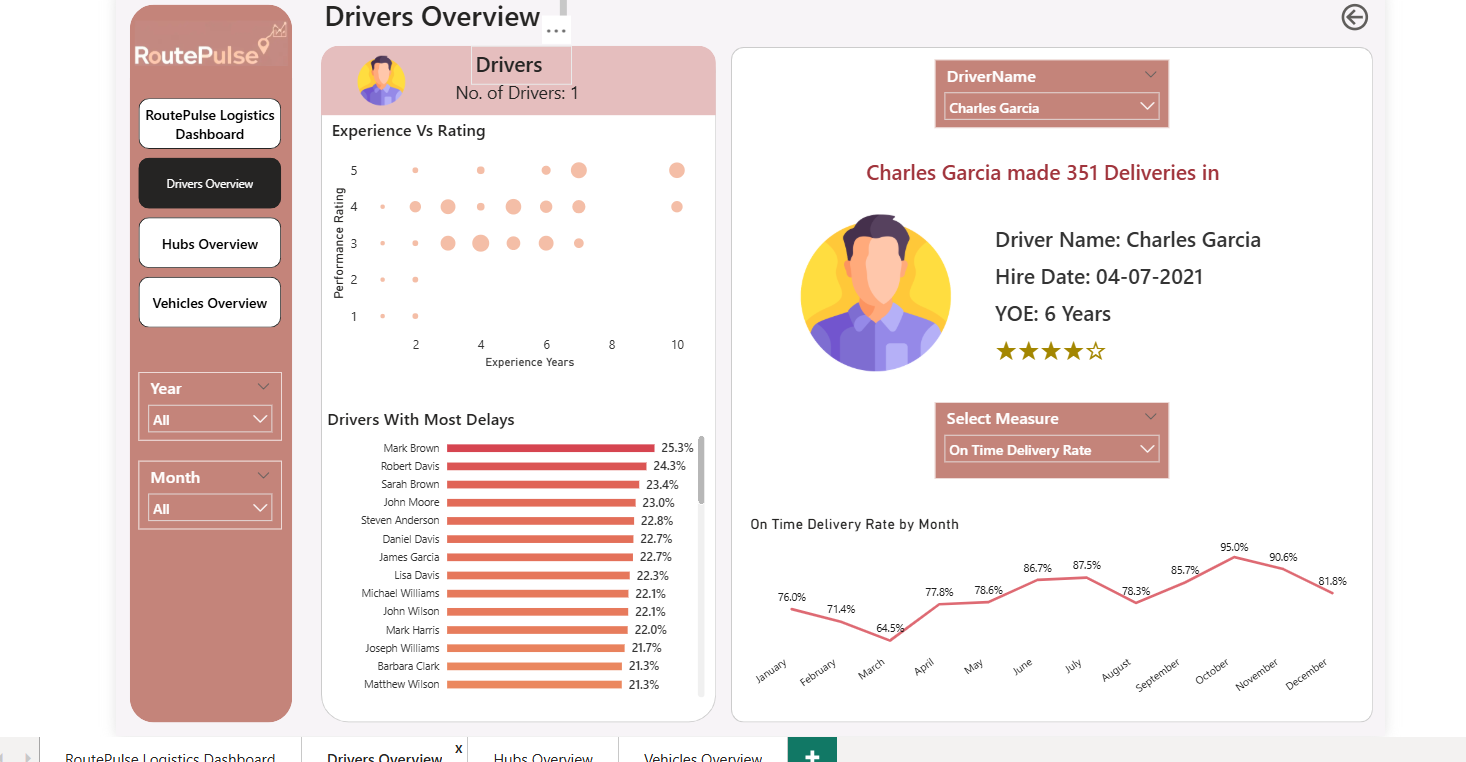

Layout of this report page (visuals, bound fields, positions):
{"tool":"powerbi","page":{"name":"Drivers Overview","canvas":[1450,850],"ordinal":1},"visuals":[{"type":"shape","box":[15.9,14.3,185.7,820.6],"z":0},{"type":"textbox","box":[233.3,0,287.5,48.6],"z":1000},{"type":"slicer","fields":{"Values":["Date Table.Year"]},"box":[25.6,434.4,163.8,78.3],"z":2000},{"type":"slicer","fields":{"Values":["Date Table.Month"]},"box":[25.6,535.5,163.8,78.3],"z":3000},{"type":"shape","box":[233.6,61.2,451.5,773.4],"z":4000},{"type":"shape","box":[233.6,61.2,451.5,79.8],"z":5000},{"type":"card","fields":{"Values":["Drivers.No Of Drivers"]},"box":[370.3,88.3,176.6,55.5],"z":6000},{"type":"textbox","box":[405.9,61.2,115.4,44.2],"z":7000},{"type":"scatterChart","title":"Experience Vs Rating","fields":{"X":["Drivers.Experience Years"],"Y":["Drivers.Performance Rating"],"Size":["Sum(Drivers.Experience Years)1"]},"box":[242.1,143.9,431.6,290.6],"z":8000},{"type":"barChart","title":"Drivers With Most Delays","fields":{"Category":["Drivers.DriverName"],"Y":["Orders.Delayed Delivery Rate"]},"box":[242.1,474.3,431.6,331.9],"z":9000},{"type":"image","box":[21.4,8.5,175.2,99.7],"z":10000},{"type":"shape","box":[702.2,62.7,733.5,772],"z":11000},{"type":"slicer","fields":{"Values":["Drivers.DriverName"]},"box":[935.7,76.9,267.8,78.3],"z":12000},{"type":"card","fields":{"Values":["Drivers.Drivers Title"]},"box":[770.5,178,596.8,55.5],"z":13000},{"type":"actionButton","box":[1395.8,8.3,54.2,40.3],"z":14000},{"type":"cardVisual","fields":{"Data":["Drivers.Driver name title","Drivers.Hire date title","Drivers.YOE","Drivers.Star rating"]},"box":[975,243.1,426.4,205.6],"z":15000},{"type":"image","box":[770.5,254.9,196.5,179.5],"z":16000},{"type":"lineChart","fields":{"Y":["Orders.On Time Delivery Rate"],"Category":["Date Table.Month"]},"box":[720.7,596.8,697.9,226.5],"z":17000},{"type":"slicer","fields":{"Values":["Select Measure.Select Measure"]},"box":[935.7,468.6,267.8,88.3],"z":18000},{"type":"pageNavigator","box":[25.6,121.1,163.8,263.5],"z":18001},{"type":"image","box":[256.4,72.6,95.4,57],"z":18002}]}

Visuals, with their boxes on the page's 1450x850 design canvas (x1, y1, x2, y2). These are canvas units, not pixel positions in the 1466x762 screenshot, which may show the page scaled, cropped or inside an application window:
shape: (16,14,202,835)
textbox: (233,0,521,49)
slicer - Date Table.Year: (26,434,189,513)
slicer - Date Table.Month: (26,536,189,614)
shape: (234,61,685,835)
shape: (234,61,685,141)
card - Drivers.No Of Drivers: (370,88,547,144)
textbox: (406,61,521,105)
"Experience Vs Rating" scatterChart: (242,144,674,434)
"Drivers With Most Delays" barChart: (242,474,674,806)
image: (21,8,197,108)
shape: (702,63,1436,835)
slicer - Drivers.DriverName: (936,77,1204,155)
card - Drivers.Drivers Title: (770,178,1367,234)
actionButton: (1396,8,1450,49)
cardVisual - Drivers.Driver name title x Drivers.Hire date title: (975,243,1401,449)
image: (770,255,967,434)
lineChart - Orders.On Time Delivery Rate x Date Table.Month: (721,597,1419,823)
slicer - Select Measure.Select Measure: (936,469,1204,557)
pageNavigator: (26,121,189,385)
image: (256,73,352,130)
